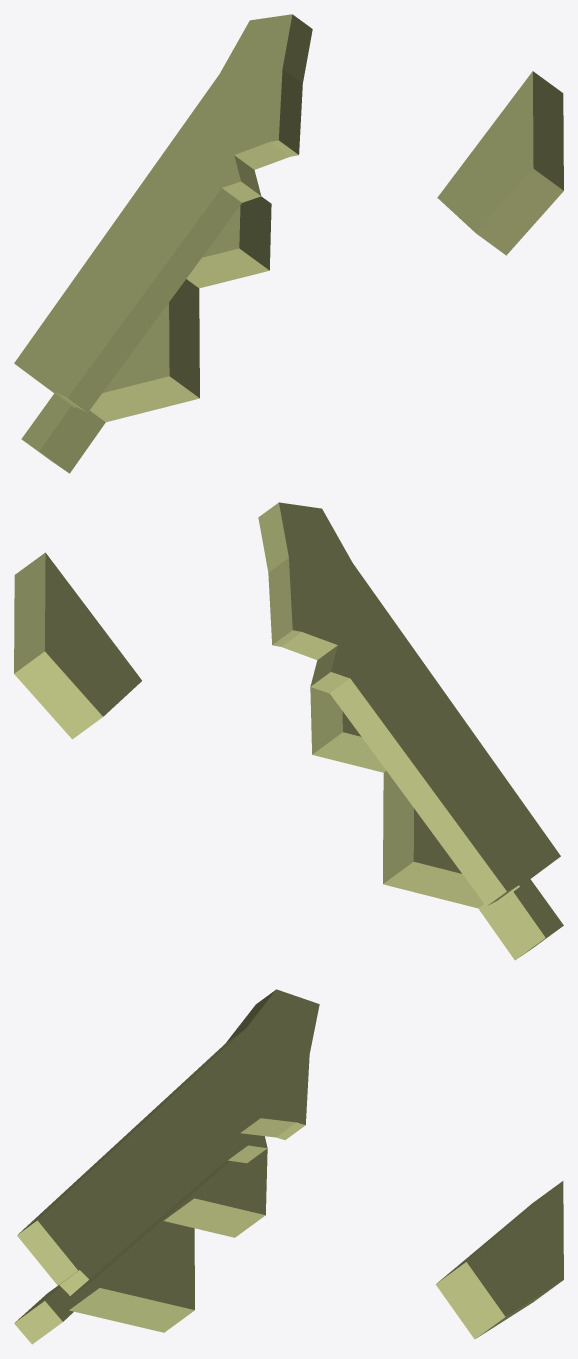
3 views of the same model, one above another, from view 1: azimuth 30°, elevation 25°; view 2: azimuth 150°, elevation 25°; view 3: azimuth 330°, elevation 25° (orthographic).
Visible parts, largest first — view 1: 0_0_1_1_3_2_0_2; view 2: 0_0_1_1_3_2_0_2; view 3: 0_0_1_1_3_2_0_2.
Boxes of the visible parts, x1=… form: 0_0_1_1_3_2_0_2: x1=14, y1=14, x2=563, y2=473; 0_0_1_1_3_2_0_2: x1=14, y1=502, x2=563, y2=960; 0_0_1_1_3_2_0_2: x1=14, y1=989, x2=563, y2=1344.
Bounding box in the file's own units: 88.54 × 61.84 × 9.
